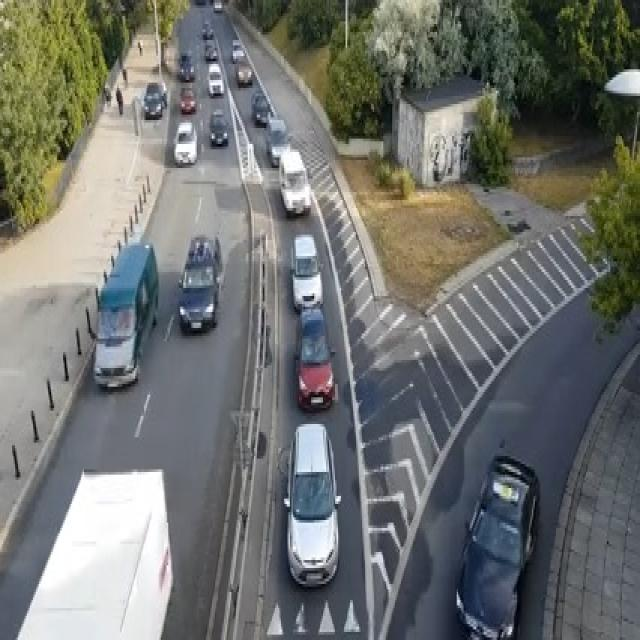bus: (12, 467, 173, 637)
car: (456, 453, 540, 638), (281, 421, 341, 587), (93, 240, 159, 389), (178, 232, 222, 333), (293, 306, 335, 411), (288, 232, 323, 312), (278, 147, 311, 216), (264, 118, 290, 166), (173, 120, 197, 165), (209, 106, 228, 146), (143, 80, 162, 117), (251, 91, 269, 125), (207, 61, 224, 96), (235, 59, 252, 85), (179, 51, 194, 80), (179, 85, 195, 112), (231, 38, 245, 62), (204, 40, 217, 61), (158, 80, 167, 107), (202, 19, 214, 37), (102, 83, 111, 101), (212, 0, 222, 11), (194, 0, 206, 5)
